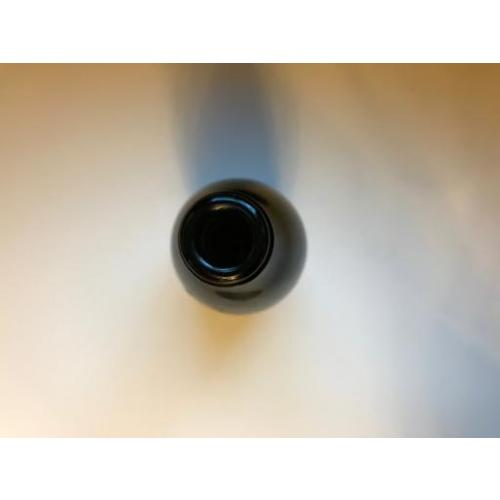glass: (176, 182, 310, 308)
